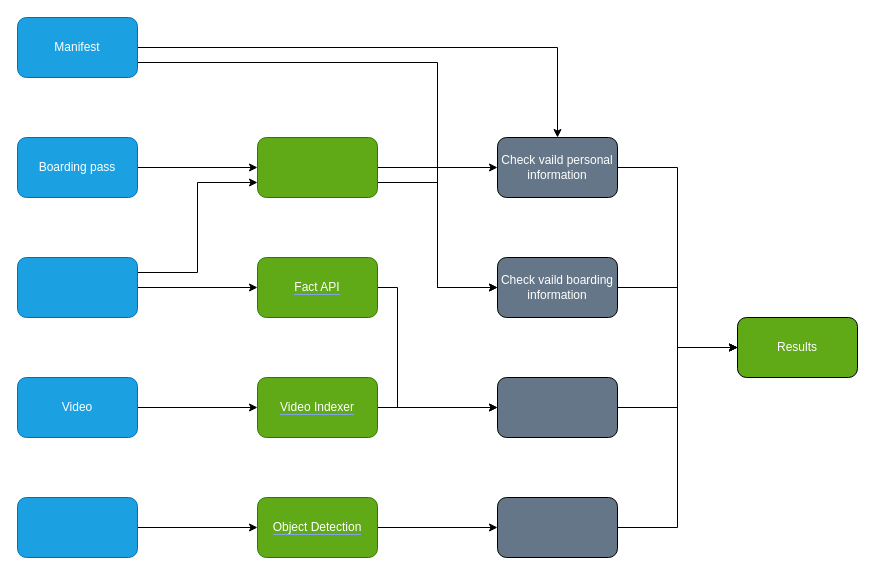
Image size: 875x575. Some labels were removed from this diagram. The box of each missing label's shape, as (x1, y1, x2, y2) in pixels:
Baggage Image: (16, 496, 138, 558)
Check vaild baggage: (496, 496, 618, 558)
Check vaild face: (496, 376, 618, 438)
Digital ID: (16, 256, 138, 318)
Form Recognizer: (256, 136, 378, 198)
